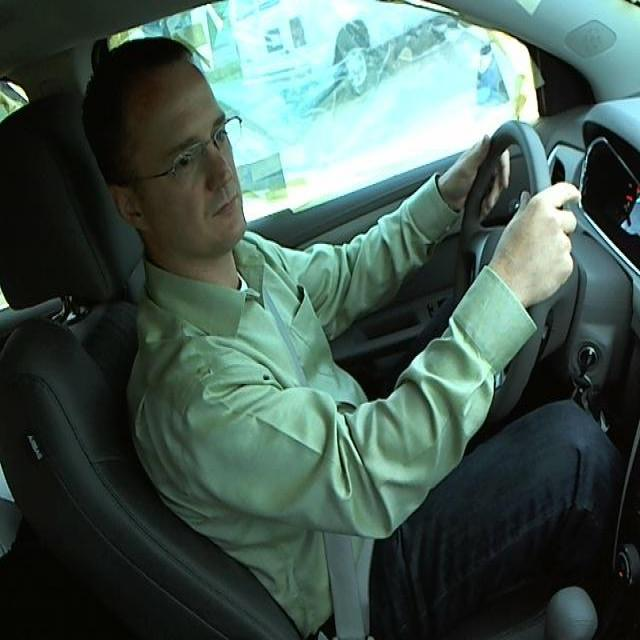without_using_phone: (63, 19, 318, 312)
